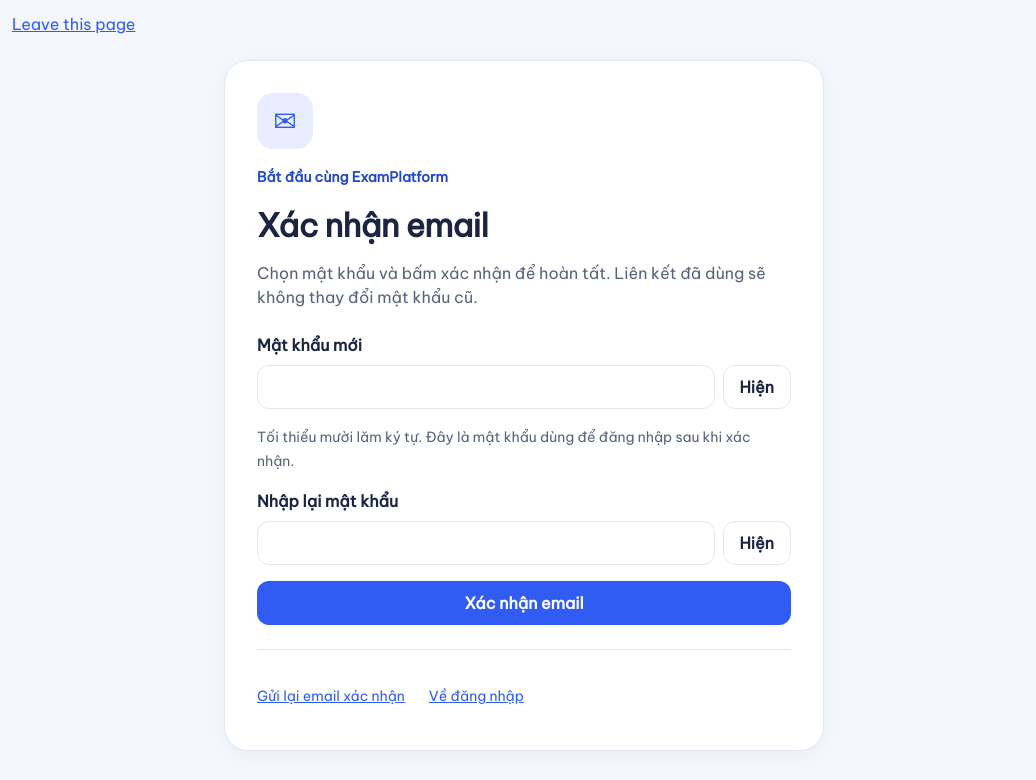
Scenario: identity request and session fences › removes the active verification form after a rejected or expired link
Type "fixture-password-ok" into the password field labelled "Mật khẩu mới" at (486, 387), box x1=257 y1=365 x2=714 y2=409
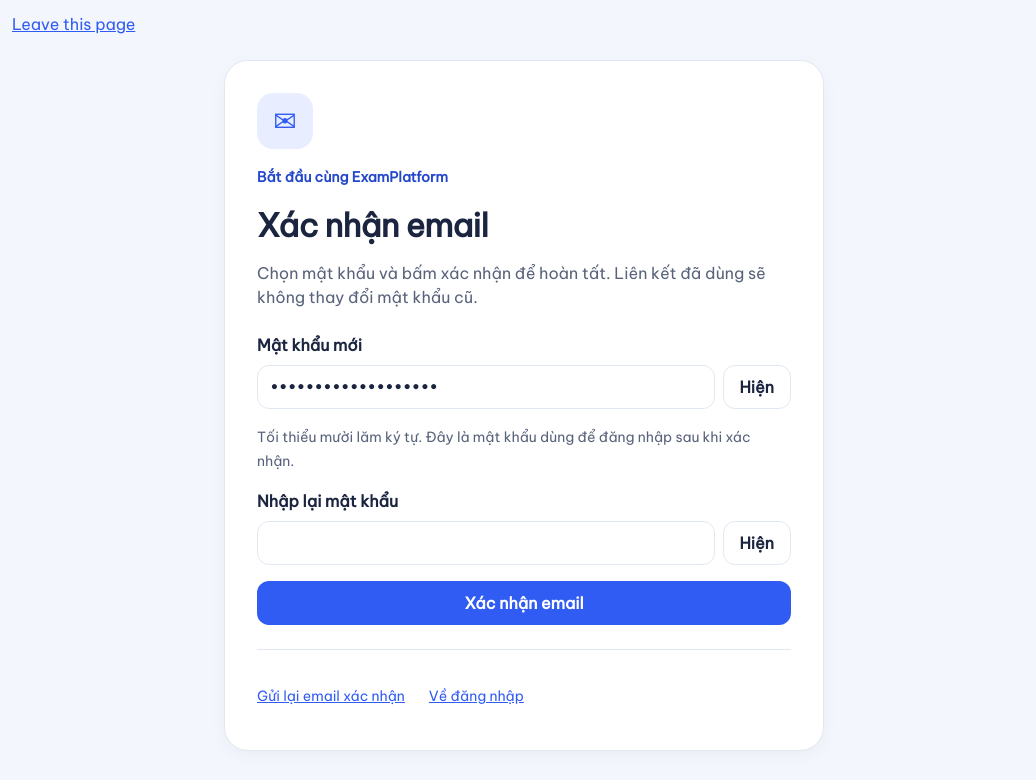
Type "fixture-password-ok" into the password field labelled "Nhập lại mật khẩu" at (486, 543), box x1=257 y1=521 x2=714 y2=565
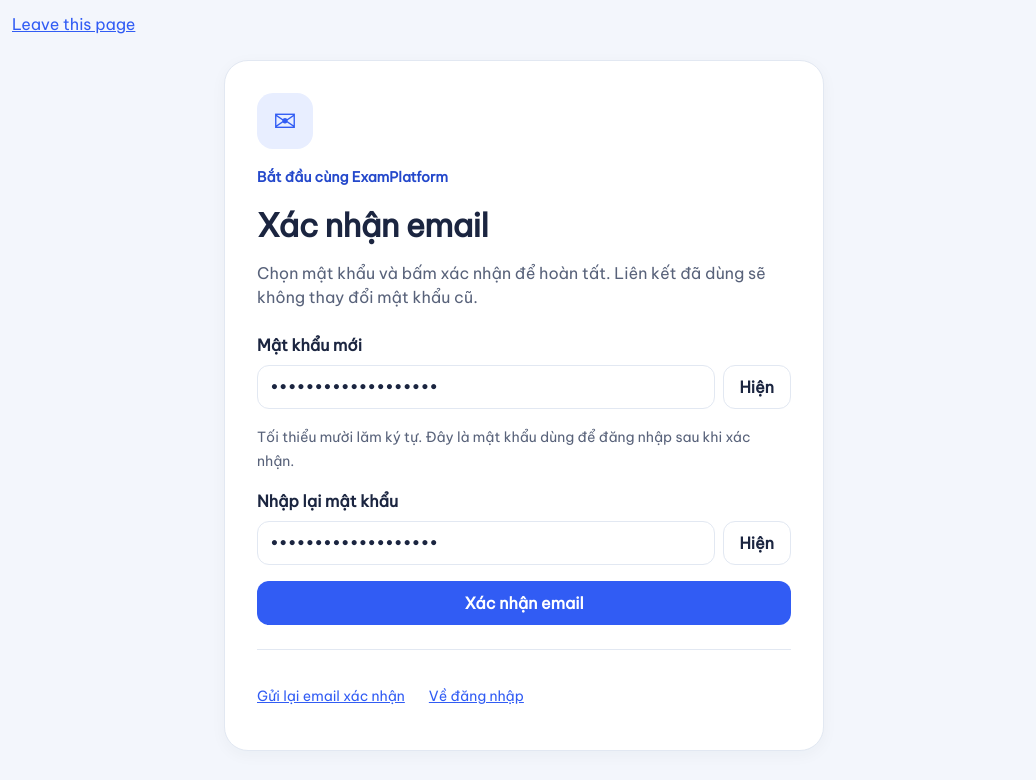
Click the button "Xác nhận email" at (524, 603), box x1=257 y1=581 x2=791 y2=625
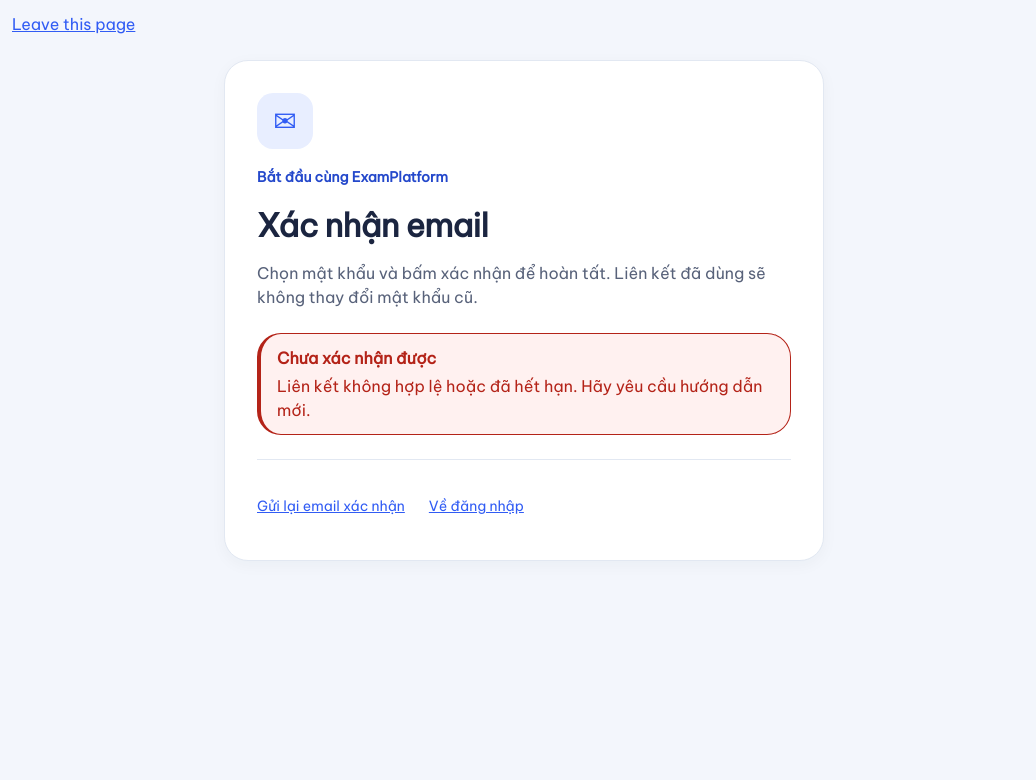
expect the message is shown: met, box x1=257 y1=333 x2=791 y2=435
expect the label labelled "Mật khẩu mới" is gone: met
